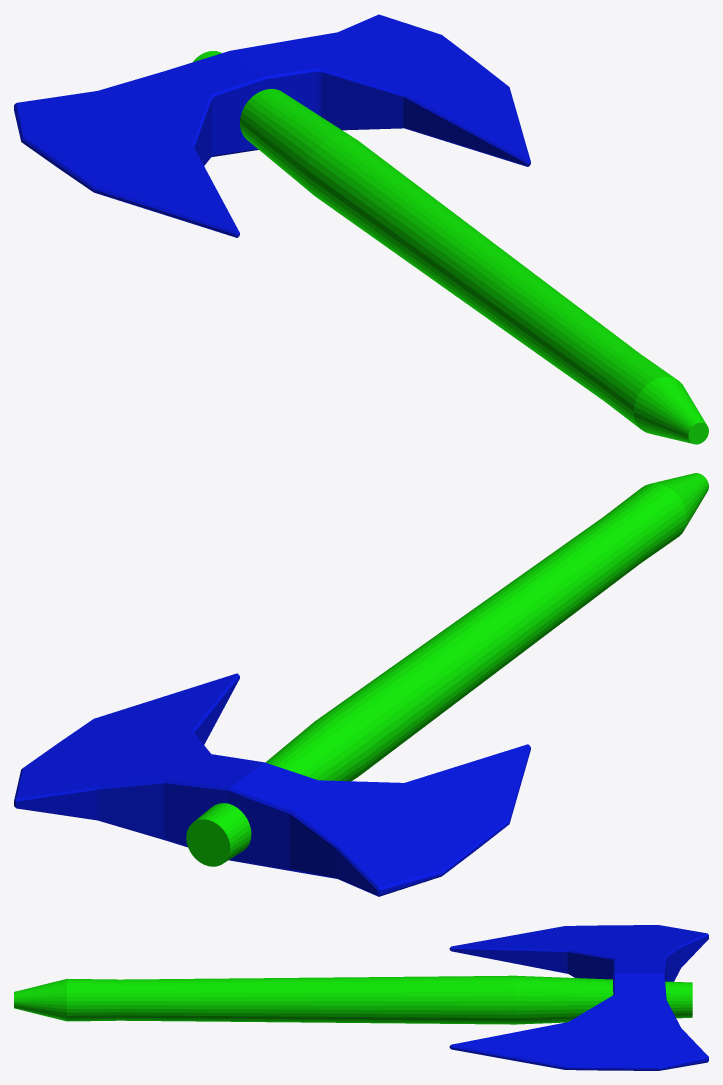
Rendered from Axe_1.fbx.
The picture shows the model from 3 angles, top to bottom: view 1: azimuth 30°, elevation 25°; view 2: azimuth 150°, elevation 25°; view 3: azimuth 270°, elevation 25°; orthographic projection. The views are drawn at different scales.
Parts seen in each view (by area): view 1: blade-axe-1, Handle-axe-1; view 2: blade-axe-1, Handle-axe-1; view 3: Handle-axe-1, blade-axe-1.
Boxes of the visible parts, x1,y1,x2,y2 form: blade-axe-1: (14, 14, 530, 237); Handle-axe-1: (193, 51, 708, 444); blade-axe-1: (14, 673, 530, 896); Handle-axe-1: (186, 473, 708, 866); Handle-axe-1: (14, 975, 692, 1024); blade-axe-1: (449, 925, 708, 1070).
Bounding box in the file's own units: 46.27 × 7.6 × 95.26.
